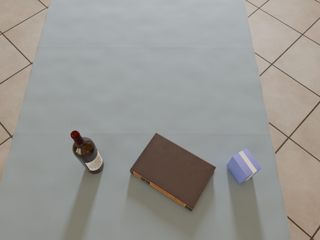book: (130, 133, 216, 211)
bottle: (71, 131, 104, 174)
box: (227, 149, 261, 184)
